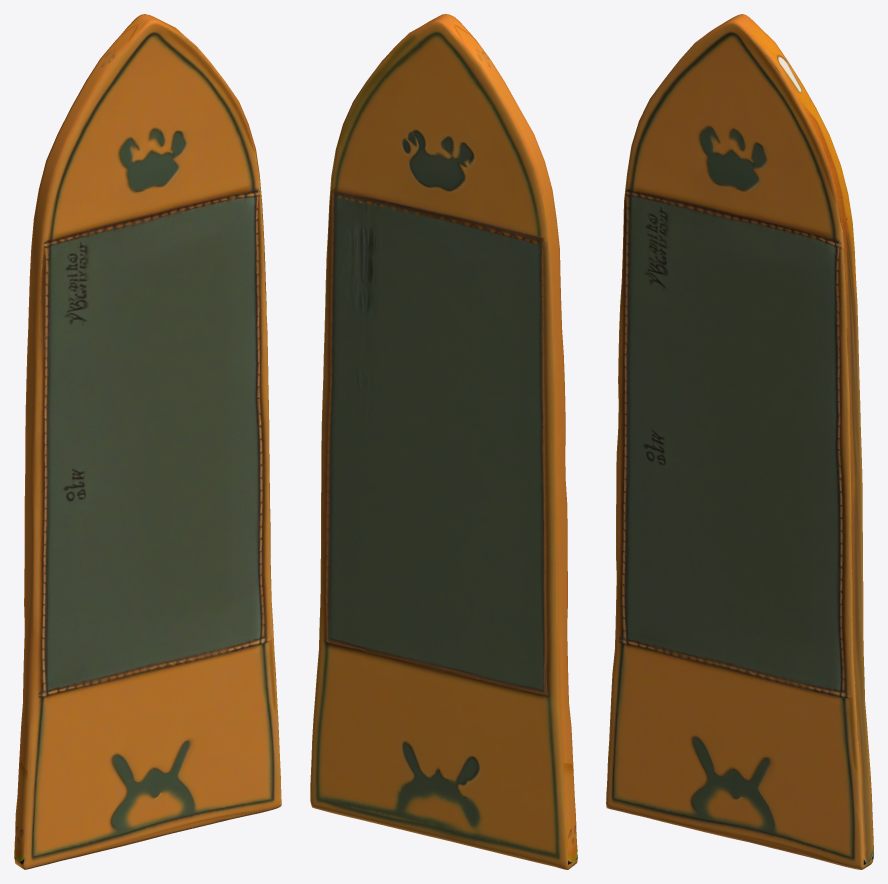
File: Paw_Print_Bookmark_De_0527101833_texture.fbx
The picture shows the model from 3 angles, left to right: view 1: azimuth 30°, elevation 25°; view 2: azimuth 150°, elevation 25°; view 3: azimuth 330°, elevation 25°; orthographic projection.
Parts seen in each view (by area): view 1: input; view 2: input; view 3: input.
Boxes of the visible parts, x1,y1,x2,y2 form: input: (14, 14, 281, 869); input: (310, 14, 577, 869); input: (606, 14, 873, 869).
Size of the model in its own units: 66.29 by 200 by 5.8.
1 material, 1 textured.
